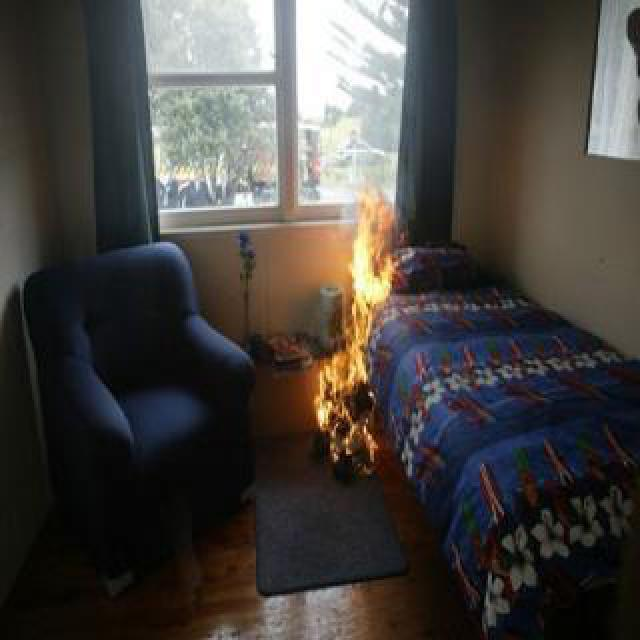Fire: (312, 188, 398, 462)
